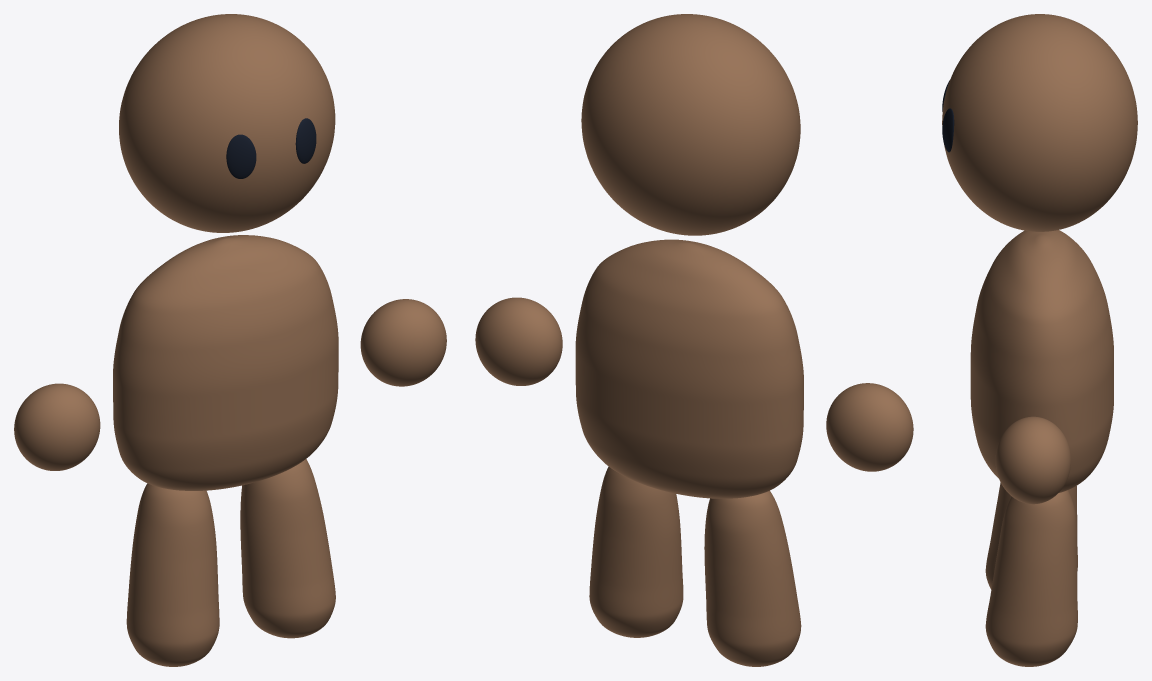
The model's file is Masculine-skin2.glb.
3 renders of one model, left to right at view 1: azimuth 30°, elevation 25°; view 2: azimuth 150°, elevation 25°; view 3: azimuth 270°, elevation 25°, orthographic. The views are drawn at different scales.
Visible parts, largest first — view 1: Rounded torso, Round head, Left leg blob, Right leg blob, Right round hand, Left round hand, Left optional eye, Right optional eye; view 2: Rounded torso, Round head, Left leg blob, Right leg blob, Left round hand, Right round hand; view 3: Round head, Rounded torso, Right leg blob, Right round hand, Left leg blob, Right optional eye.
Boxes of the visible parts, box(x1,y1,x2,y2) form: Rounded torso: box(113, 235, 338, 490); Round head: box(119, 14, 335, 232); Left leg blob: box(126, 483, 219, 666); Right leg blob: box(240, 459, 335, 638); Right round hand: box(360, 299, 446, 386); Left round hand: box(14, 383, 100, 470); Left optional eye: box(226, 134, 256, 178); Right optional eye: box(295, 118, 316, 163); Rounded torso: box(575, 239, 803, 498); Round head: box(581, 14, 800, 235); Left leg blob: box(704, 490, 801, 666); Right leg blob: box(589, 466, 683, 637); Left round hand: box(826, 383, 913, 471); Right round hand: box(475, 297, 562, 385); Round head: box(942, 14, 1137, 231); Rounded torso: box(970, 230, 1113, 492); Right leg blob: box(985, 490, 1077, 666); Right round hand: box(995, 416, 1070, 504); Left leg blob: box(985, 482, 1077, 589); Right optional eye: box(942, 108, 954, 152).
Size of the model in its own units: 1.94 by 2.72 by 0.792.
